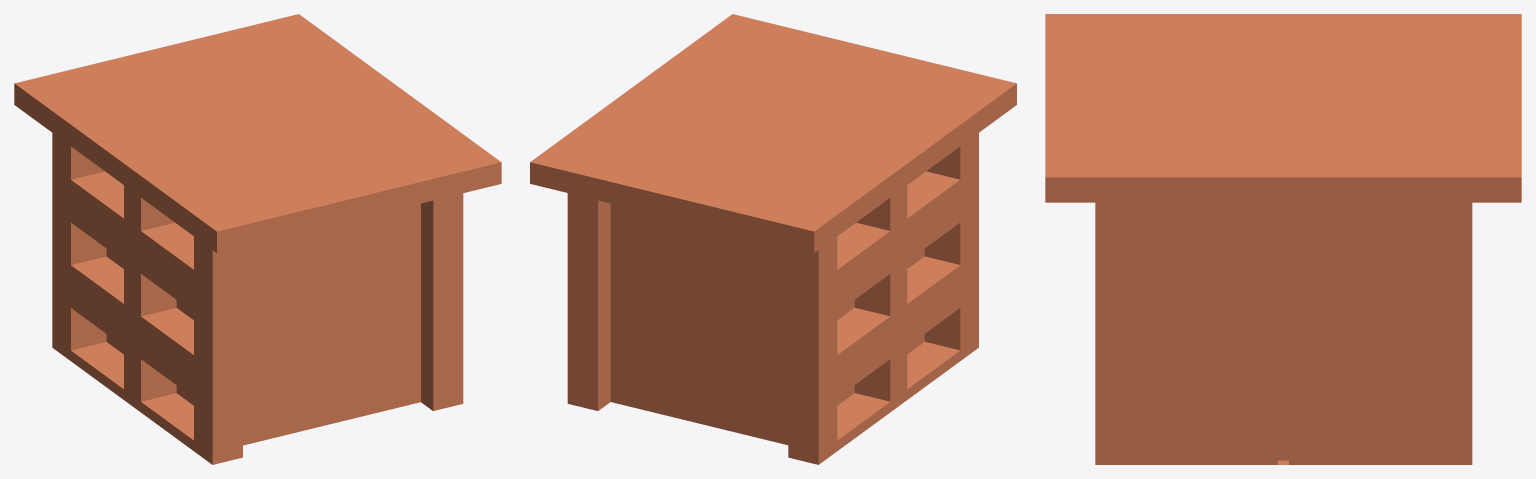
The model's file is shelvezz.fbx.
3 renders of one model, left to right at view 1: azimuth 30°, elevation 25°; view 2: azimuth 150°, elevation 25°; view 3: azimuth 270°, elevation 25°, orthographic. The views are drawn at different scales.
Parts seen in each view (by area): view 1: Cube; view 2: Cube; view 3: Cube.
Boxes of the visible parts, x1,y1,x2,y2 form: Cube: [14, 14, 501, 464]; Cube: [530, 14, 1016, 464]; Cube: [1045, 14, 1521, 464].
Bounding box in the file's own units: 352 × 299 × 434.
